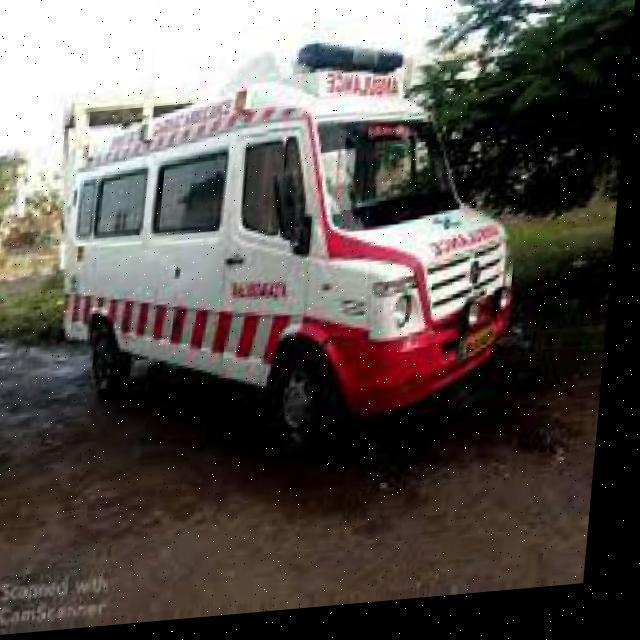Ambulance: (42, 30, 550, 484), (0, 284, 615, 638)
